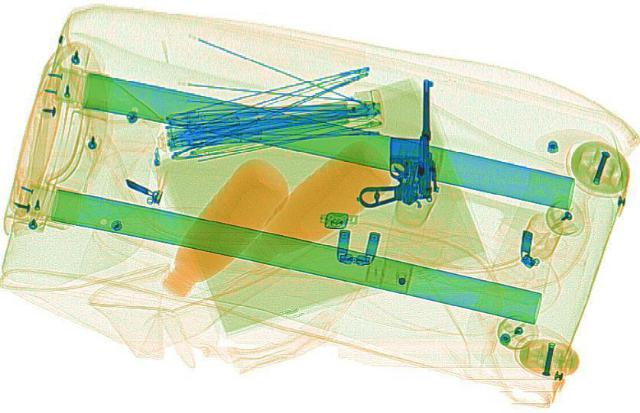Gun: (352, 77, 436, 208)
